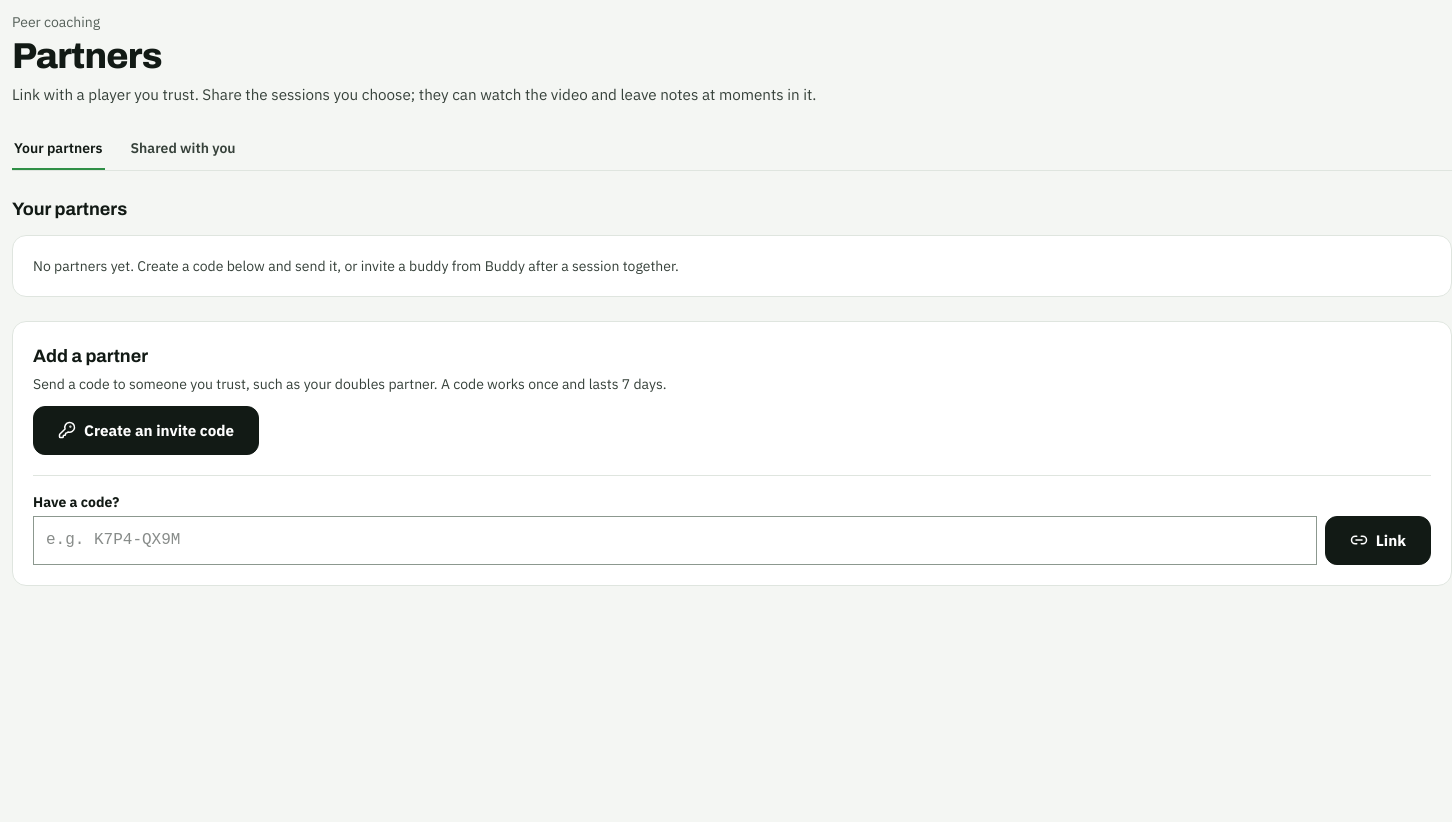
Scenario: Partners › creates an invite code to send
The width and height of the screenshot is (1452, 822).
Expected: the text "No partners yet" is shown, x1=33 y1=257 x2=679 y2=275
Click the button "Create an invite code".
click(146, 430)  # box x1=33 y1=406 x2=259 y2=455
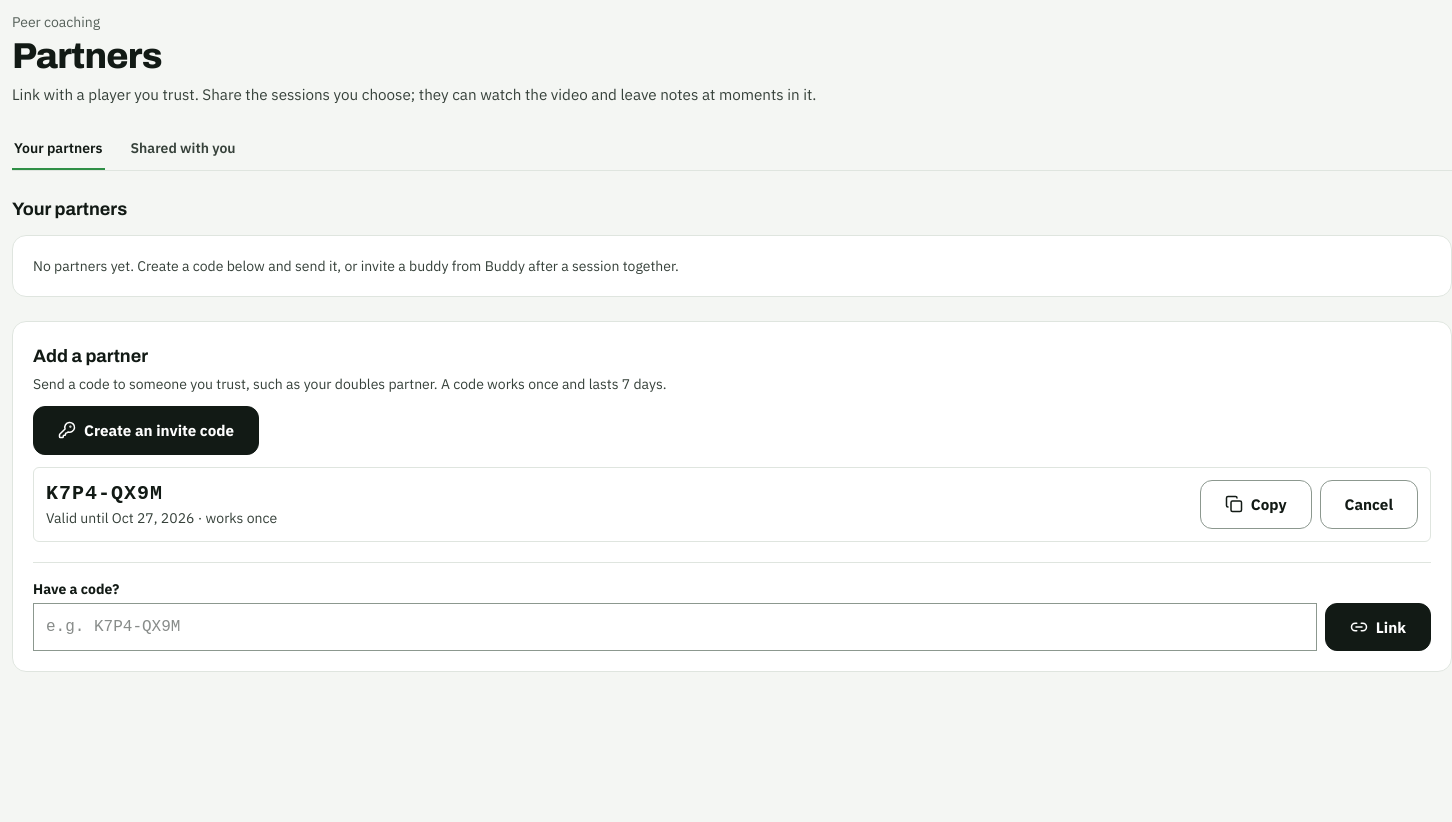
Expected: the text "K7P4-QX9M" is shown, x1=46 y1=482 x2=163 y2=505
Expected: the text "Valid until Oct 27, 2026 · works once" is shown, x1=46 y1=509 x2=277 y2=527
